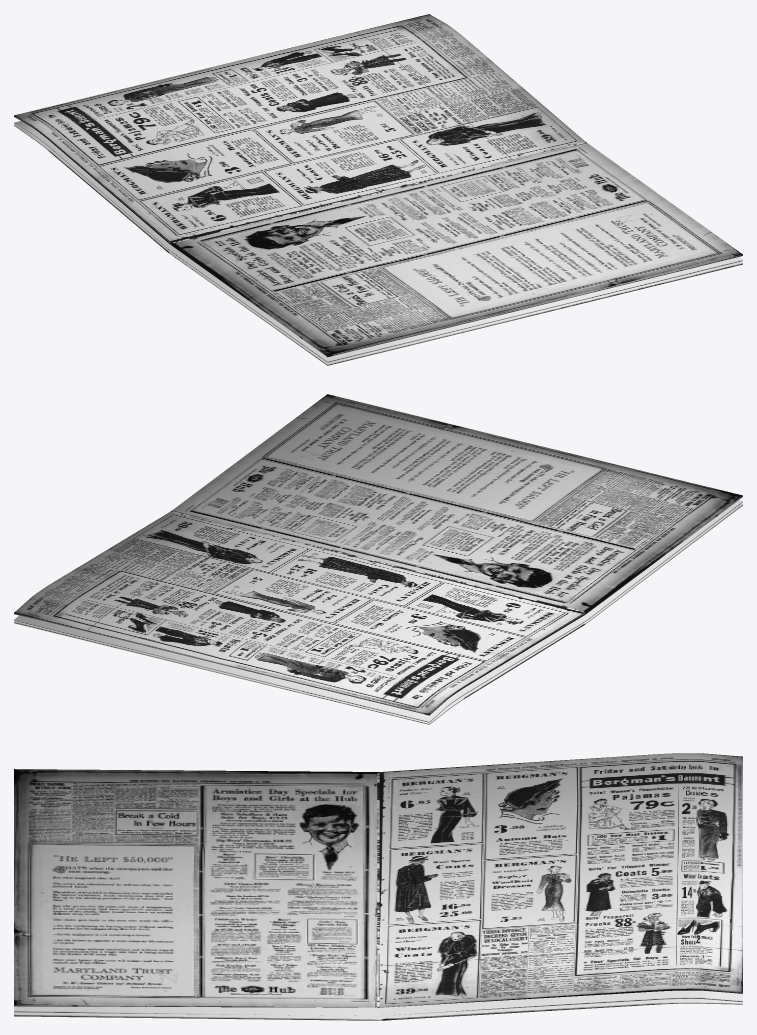
File: newspapers.fbx
The picture shows the model from 3 angles, top to bottom: view 1: azimuth 30°, elevation 25°; view 2: azimuth 150°, elevation 25°; view 3: azimuth 270°, elevation 25°; orthographic projection. The views are drawn at different scales.
Visible parts, largest first — view 1: Plane.002; view 2: Plane.002; view 3: Plane.002.
Part boxes in pixels (x1,y1,x2,y2): Plane.002: [14, 14, 742, 365]; Plane.002: [14, 394, 742, 724]; Plane.002: [14, 753, 742, 1020].
Size of the model in its own units: 295 by 18.73 by 386.
6 materials, 4 textured.
